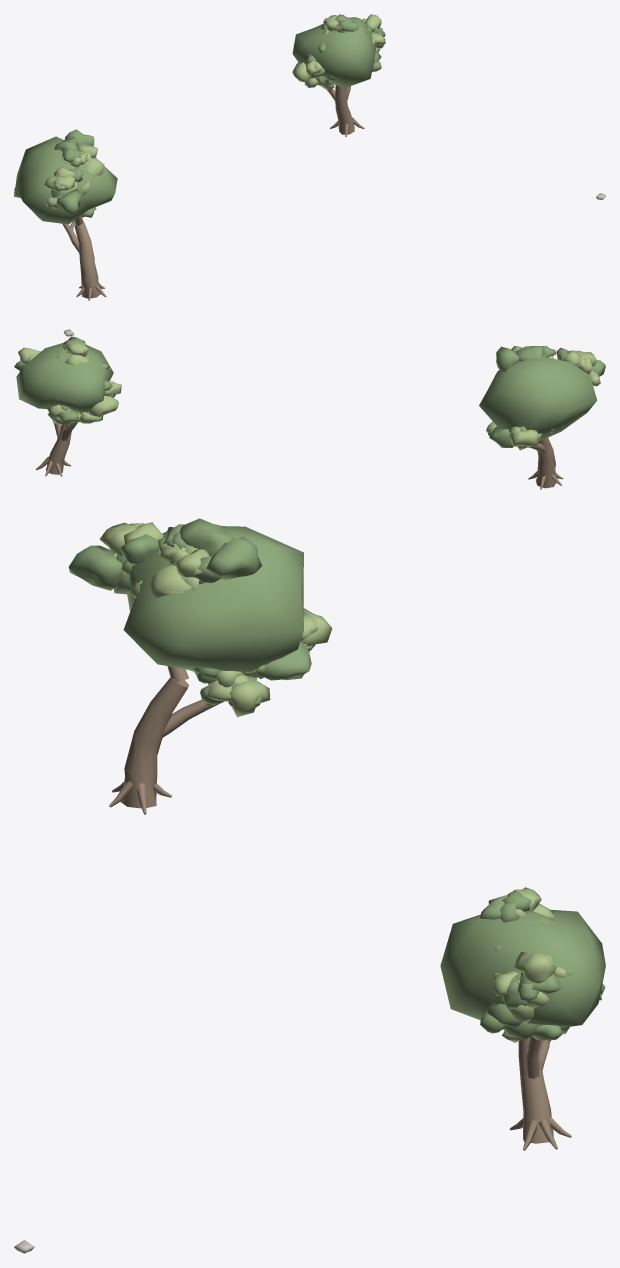
3 views of the same model, one above another, from view 1: azimuth 30°, elevation 25°; view 2: azimuth 150°, elevation 25°; view 3: azimuth 270°, elevation 25° (orthographic). The views are drawn at different scales.
Visible parts, largest first — view 1: pm1_m1; view 2: pm1_m1; view 3: pm1_m1.
Part boxes in pixels (left/top/right/bottom): pm1_m1: left=14, top=14, right=605, bottom=300; pm1_m1: left=14, top=329, right=605, bottom=489; pm1_m1: left=14, top=518, right=605, bottom=1253.
Bounding box in the file's own units: 36.18 × 9.17 × 17.81.
